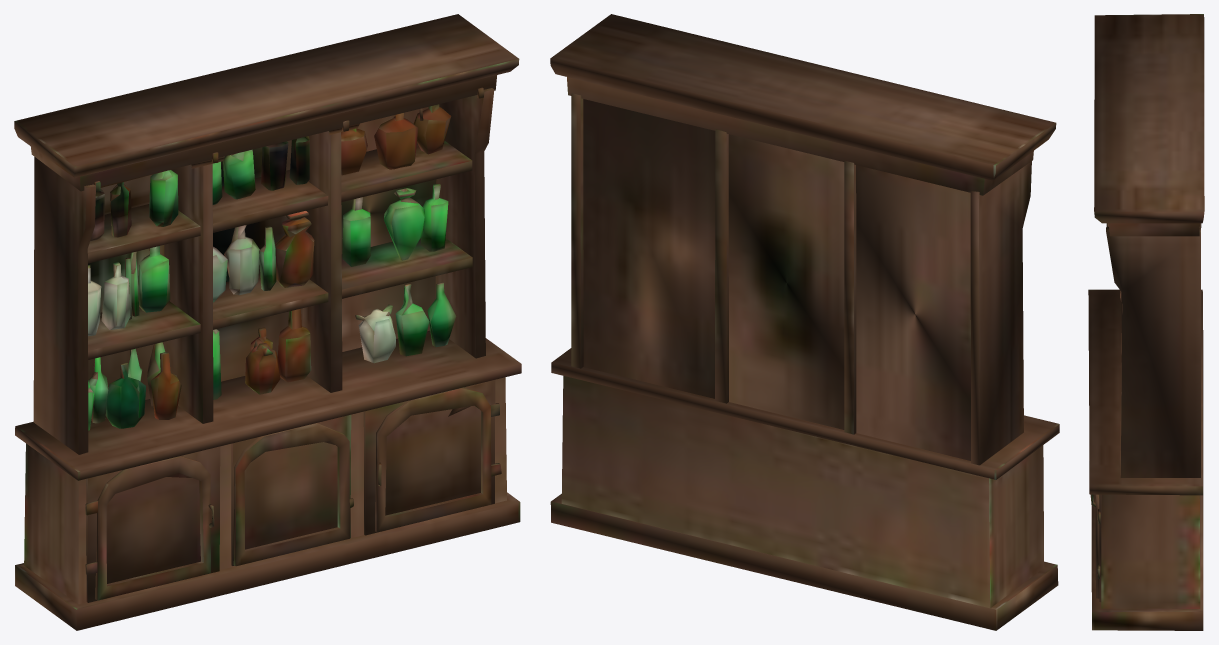
The model's file is back-bar.lod1.glb.
3 views of the same model, side by side, from view 1: azimuth 30°, elevation 25°; view 2: azimuth 150°, elevation 25°; view 3: azimuth 270°, elevation 25° (orthographic). The views are drawn at different scales.
Bounding box in the file's own units: 2 × 2 × 0.5.
Materials: 1 (1 with a texture image).
